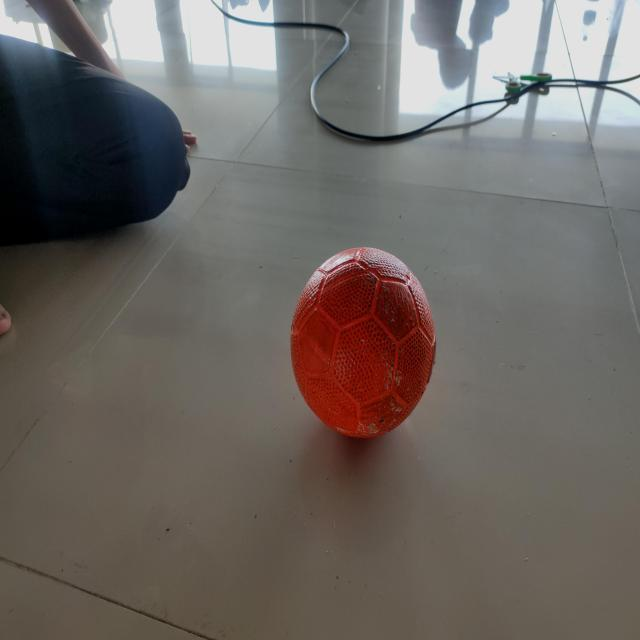bola: (278, 234, 442, 454)
